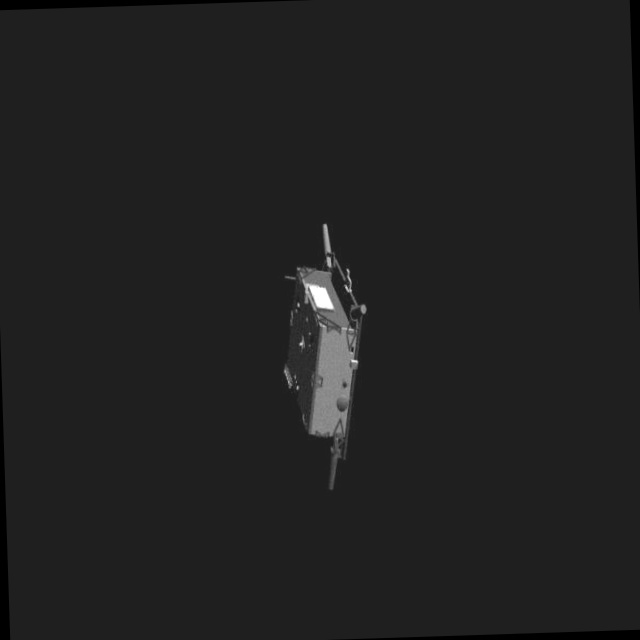medium_debris: (271, 222, 374, 499)
